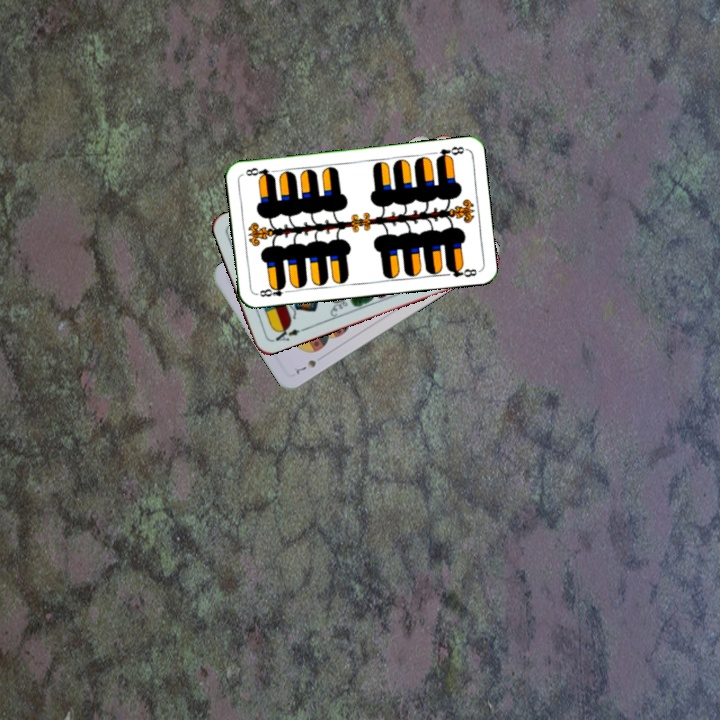E8: (253, 281, 293, 300), (432, 142, 468, 163)
EA: (271, 321, 307, 344)
S7: (291, 355, 319, 376)
